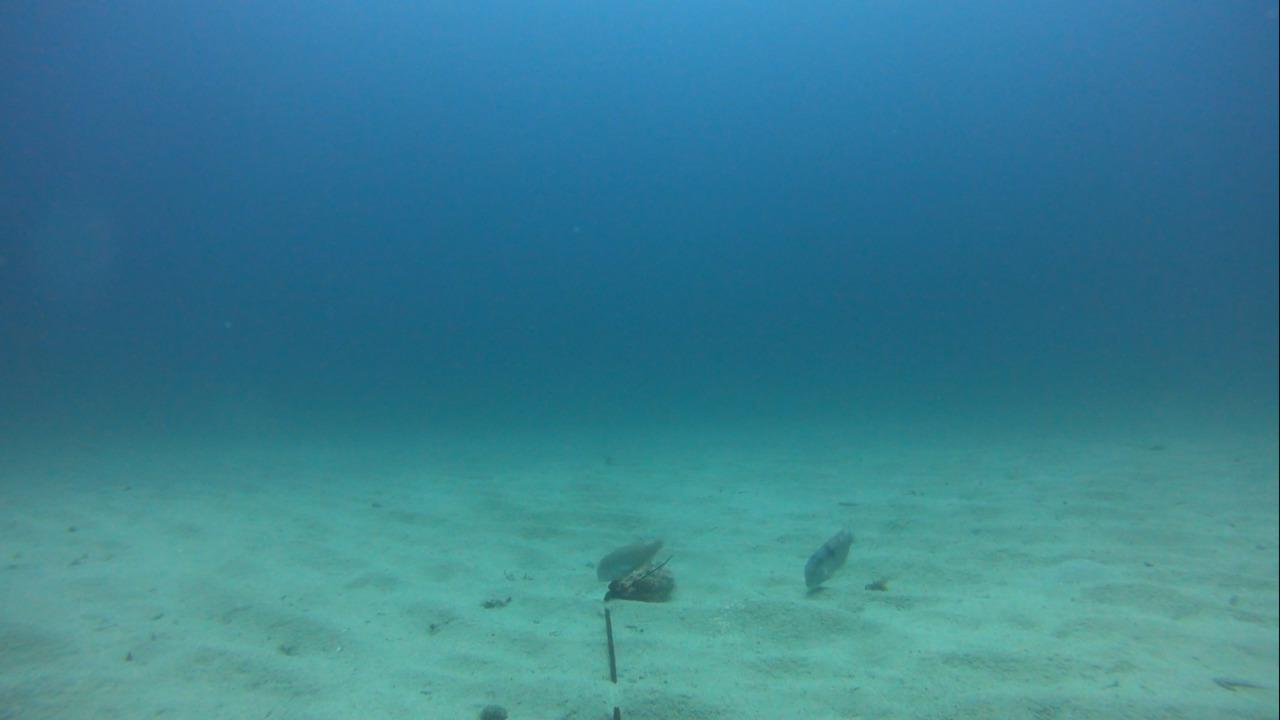raor: (585, 529, 669, 589), (800, 521, 854, 590)
